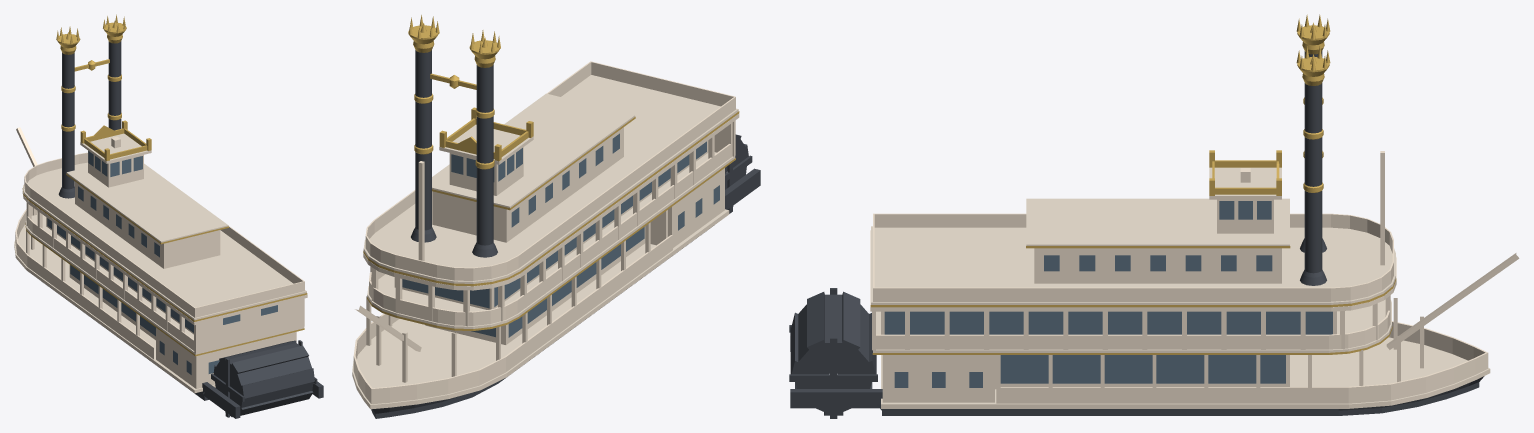
The model's file is dlr-mark-twain.glb.
The picture shows the model from 3 angles, left to right: view 1: azimuth 30°, elevation 25°; view 2: azimuth 150°, elevation 25°; view 3: azimuth 270°, elevation 25°; orthographic projection. The views are drawn at different scales.
Visible parts, largest first — view 1: Mark Twain Riverboat, stern-wheel; view 2: Mark Twain Riverboat, stern-wheel; view 3: Mark Twain Riverboat, stern-wheel.
Part boxes in pixels (left/top/right/bottom): Mark Twain Riverboat: left=14, top=14, right=323, bottom=418; stern-wheel: left=211, top=340, right=317, bottom=417; Mark Twain Riverboat: left=352, top=15, right=760, bottom=418; stern-wheel: left=725, top=134, right=752, bottom=213; Mark Twain Riverboat: left=790, top=14, right=1519, bottom=415; stern-wheel: left=789, top=288, right=877, bottom=418.
Bounding box in the file's own units: 9.26 × 20.1 × 37.13.
